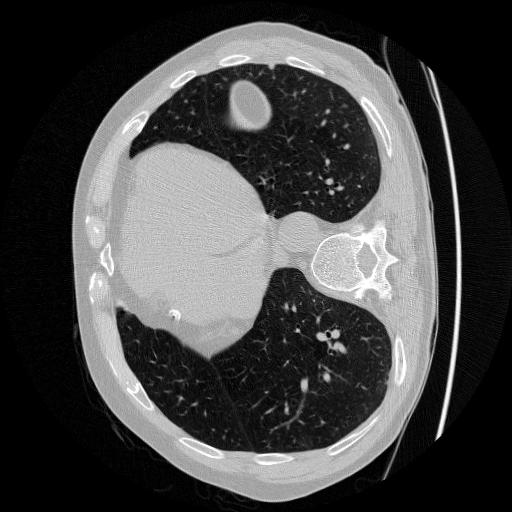nodule: (266, 63, 277, 74)
